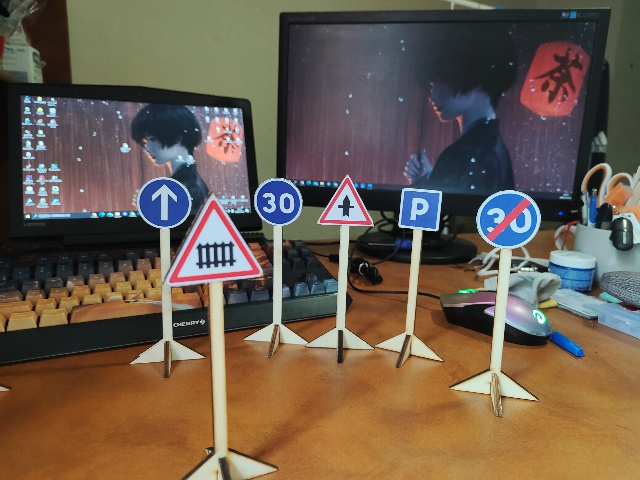P: (398, 186, 443, 232)
ban: (475, 186, 539, 251)
first: (136, 178, 191, 226)
straight: (316, 176, 372, 226)
thirty: (255, 176, 302, 225)
train: (165, 198, 265, 282)
